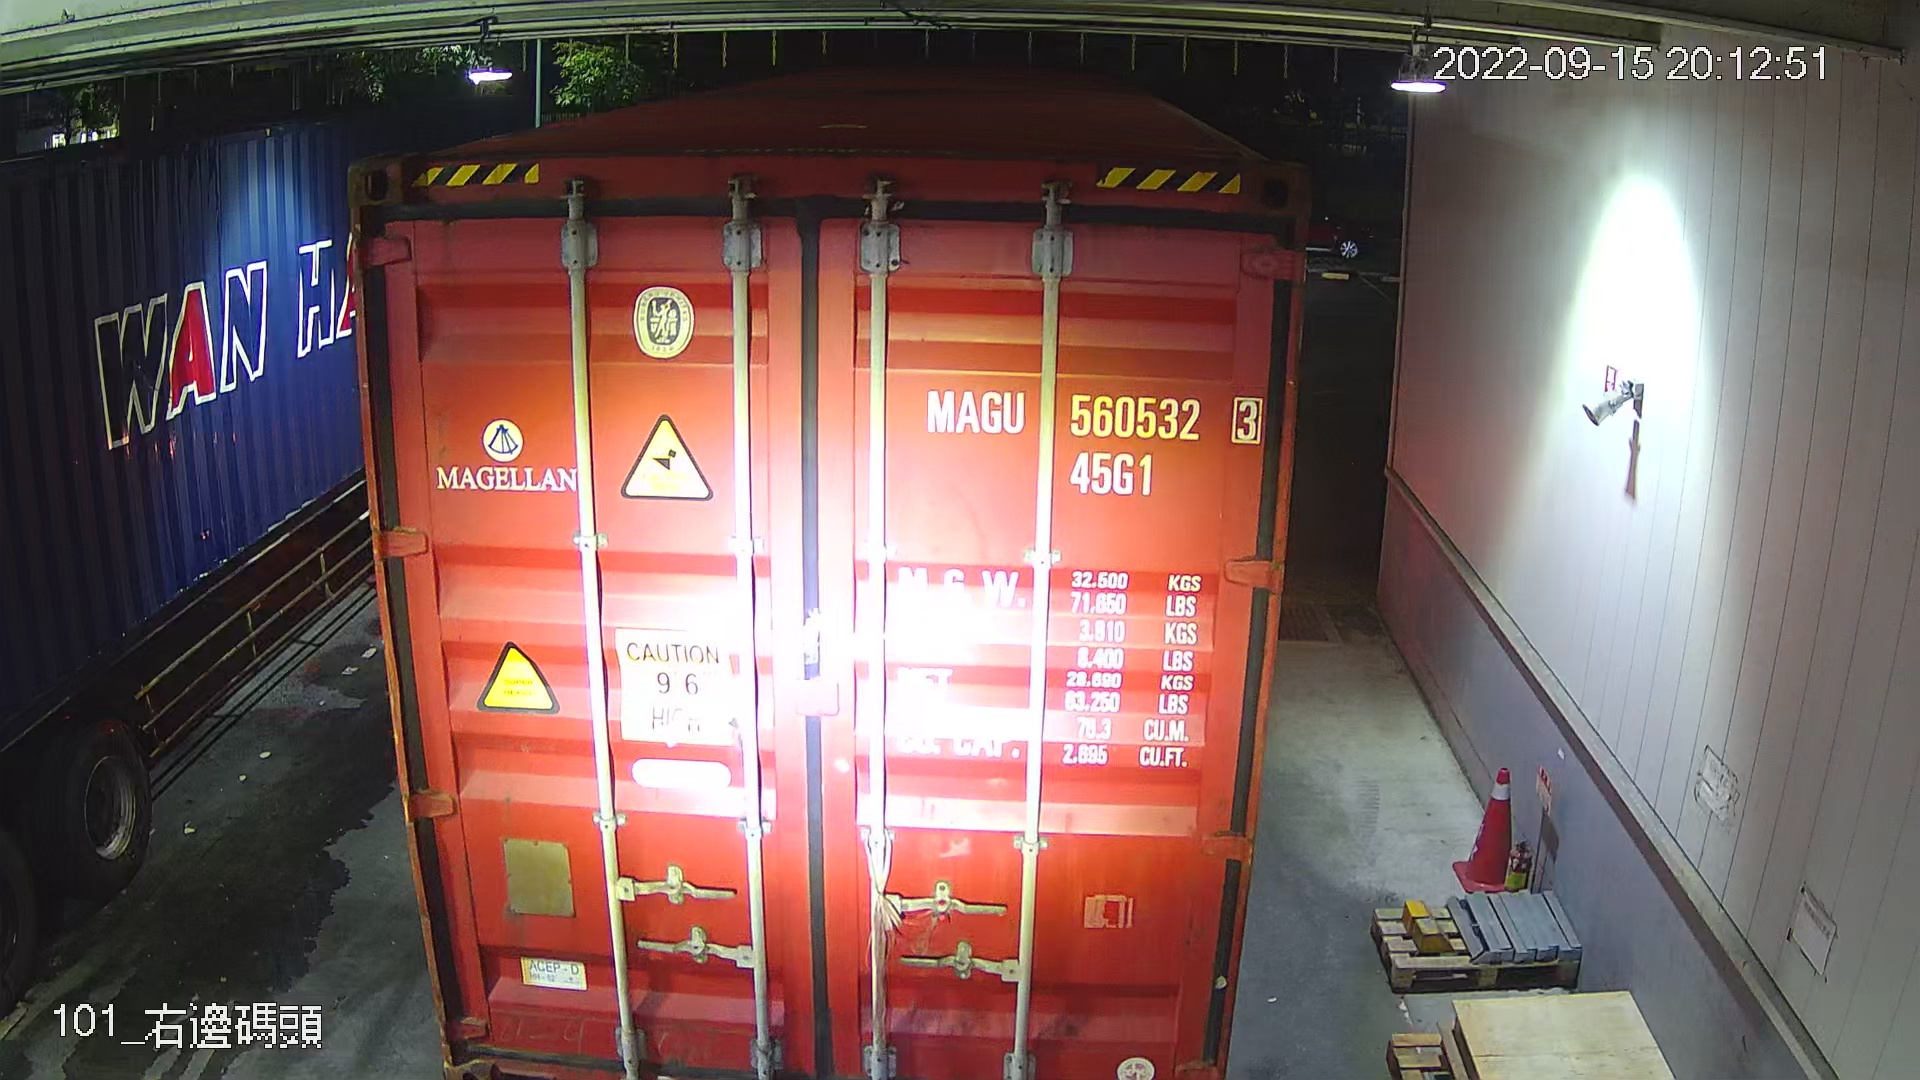container: (919, 367, 1273, 502)
